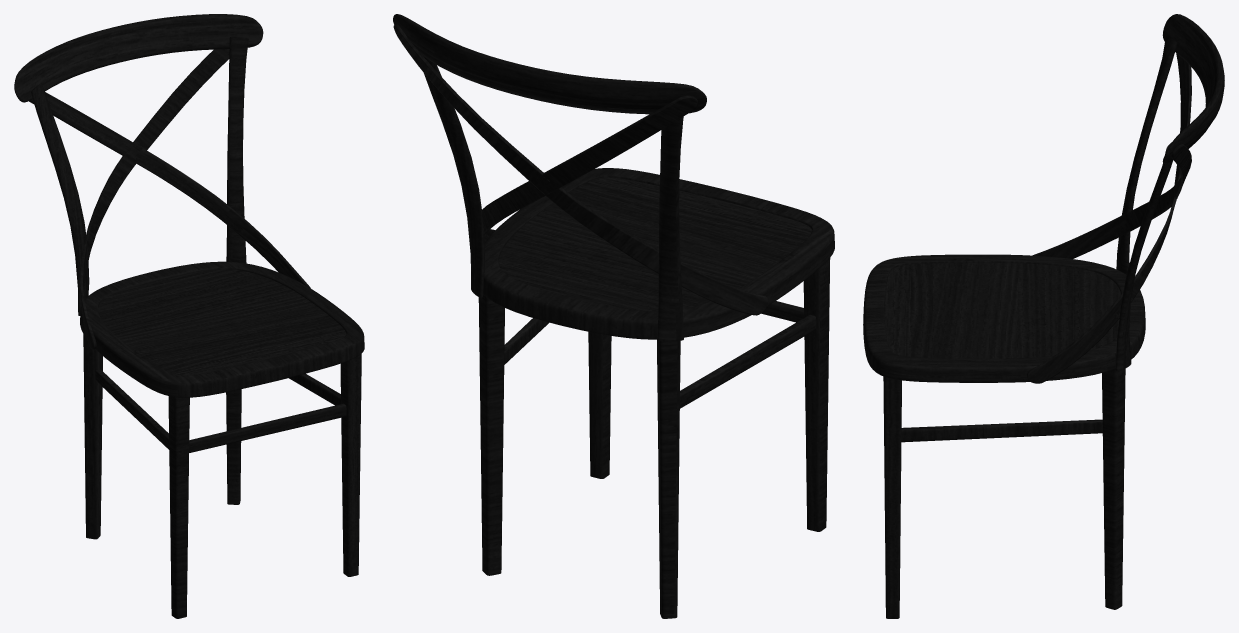
Rendered from Chair.fbx.
3 views of the same model, side by side, from view 1: azimuth 30°, elevation 25°; view 2: azimuth 150°, elevation 25°; view 3: azimuth 270°, elevation 25° (orthographic). The views are drawn at different scales.
Parts seen in each view (by area): view 1: Chair; view 2: Chair; view 3: Chair.
Part boxes in pixels (x1,y1,x2,y2): Chair: [14, 14, 364, 618]; Chair: [393, 14, 834, 618]; Chair: [863, 14, 1224, 618].
Size of the model in its own units: 49.95 by 87.81 by 57.82.
1 material, 1 textured.
